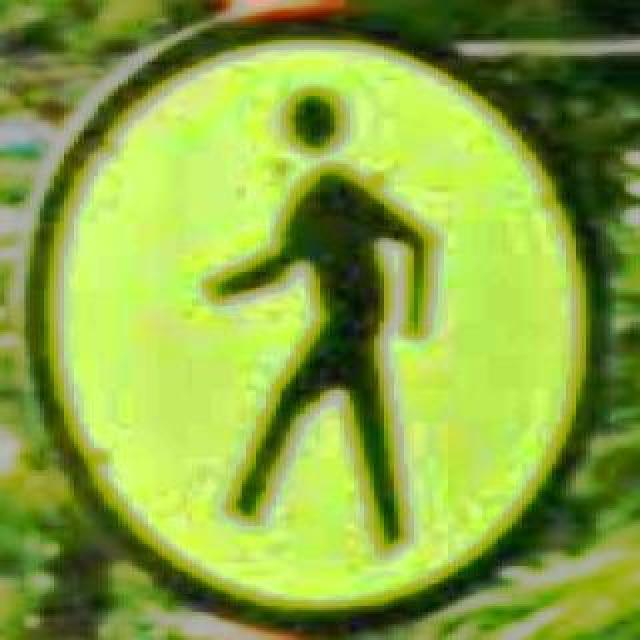pedestrian crossing: (16, 6, 616, 638)
